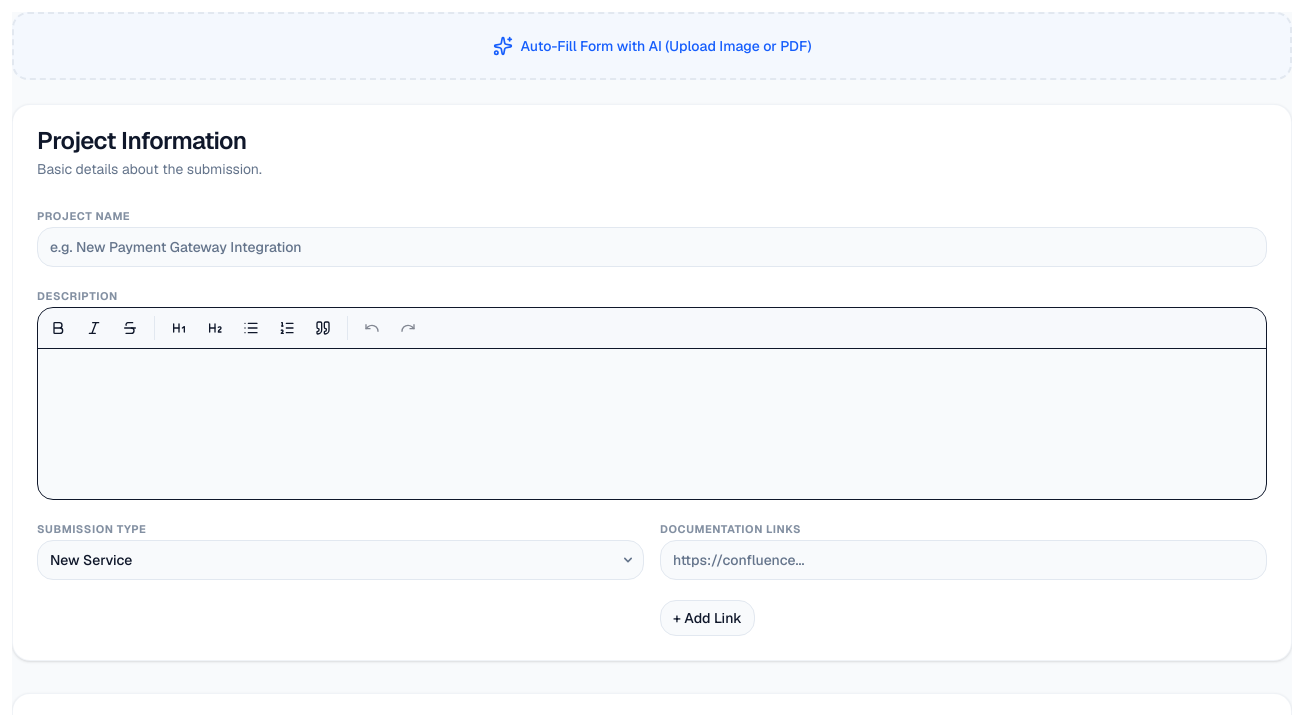
Test: SubmissionForm Component › handles dynamic document links
Expected: the number of fields with placeholder "https://confluence..." is 1, [660, 540, 1267, 580]
# Add link
Click the button "+ Add Link" at (707, 618), box [660, 600, 755, 636]
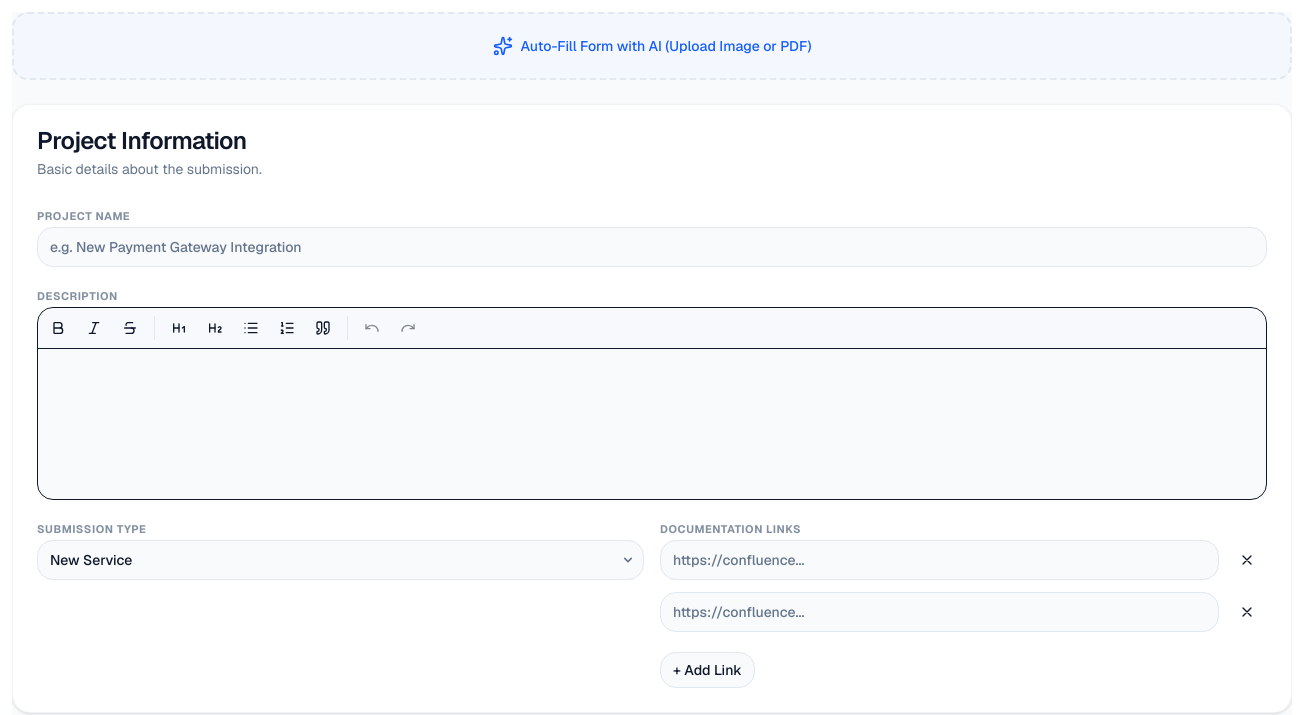
Expected: the number of fields with placeholder "https://confluence..." is 2, [660, 540, 1219, 580]; [660, 592, 1219, 632]
Click the 11th button named "Remove" at (1247, 560), box [1227, 540, 1267, 580]
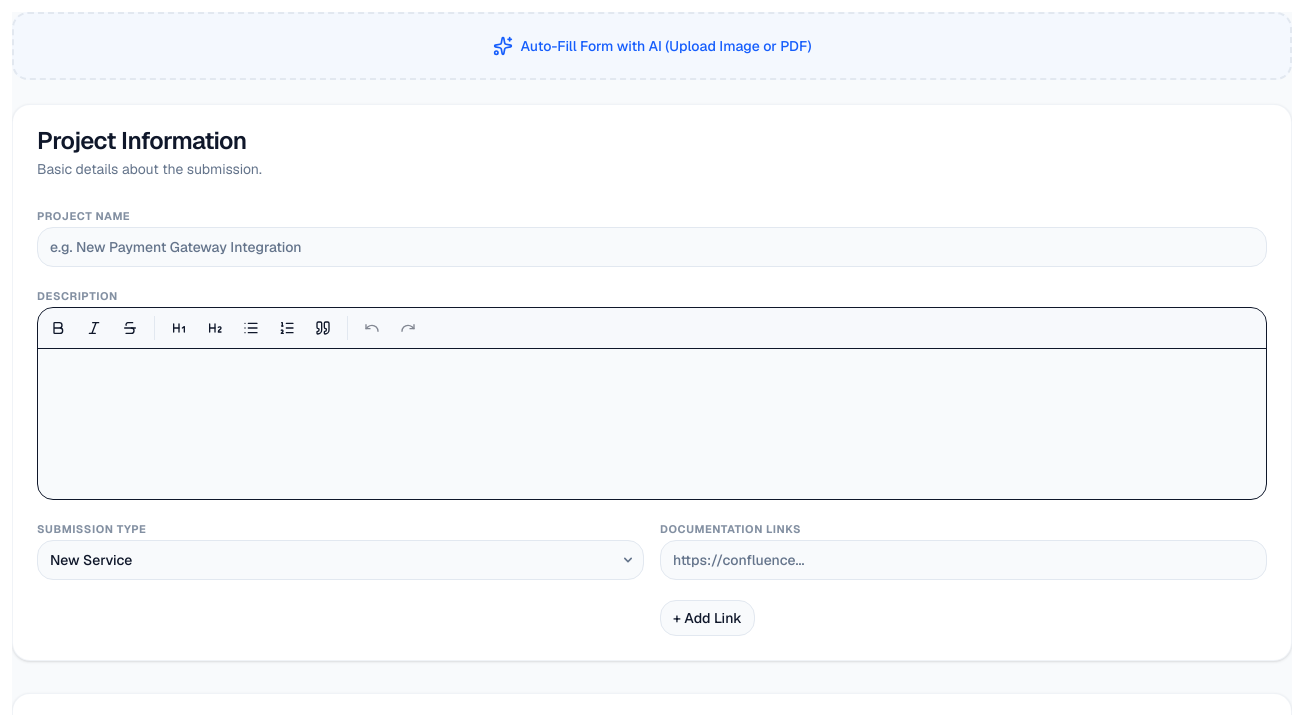
Expected: the number of fields with placeholder "https://confluence..." is 1, [660, 540, 1267, 580]
